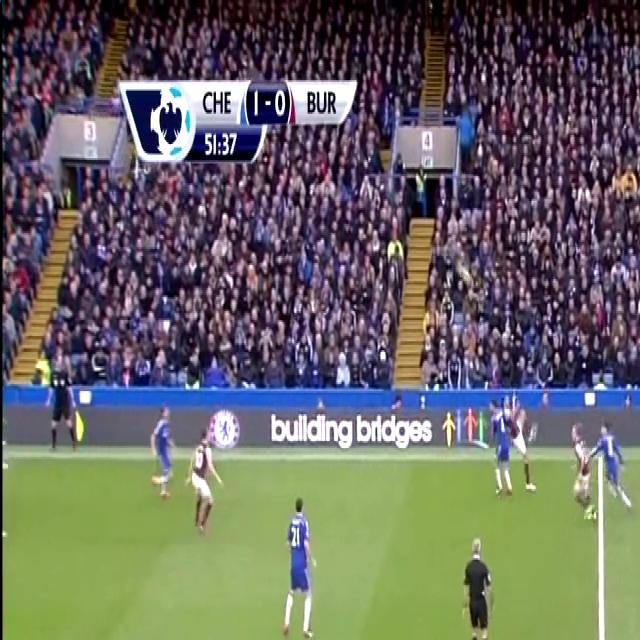referee: (455, 526, 495, 640), (43, 340, 81, 460)
soccer-player: (275, 482, 318, 640), (184, 416, 225, 538), (595, 412, 634, 519), (506, 391, 536, 505), (149, 395, 179, 503), (484, 399, 514, 505), (568, 421, 598, 526)
